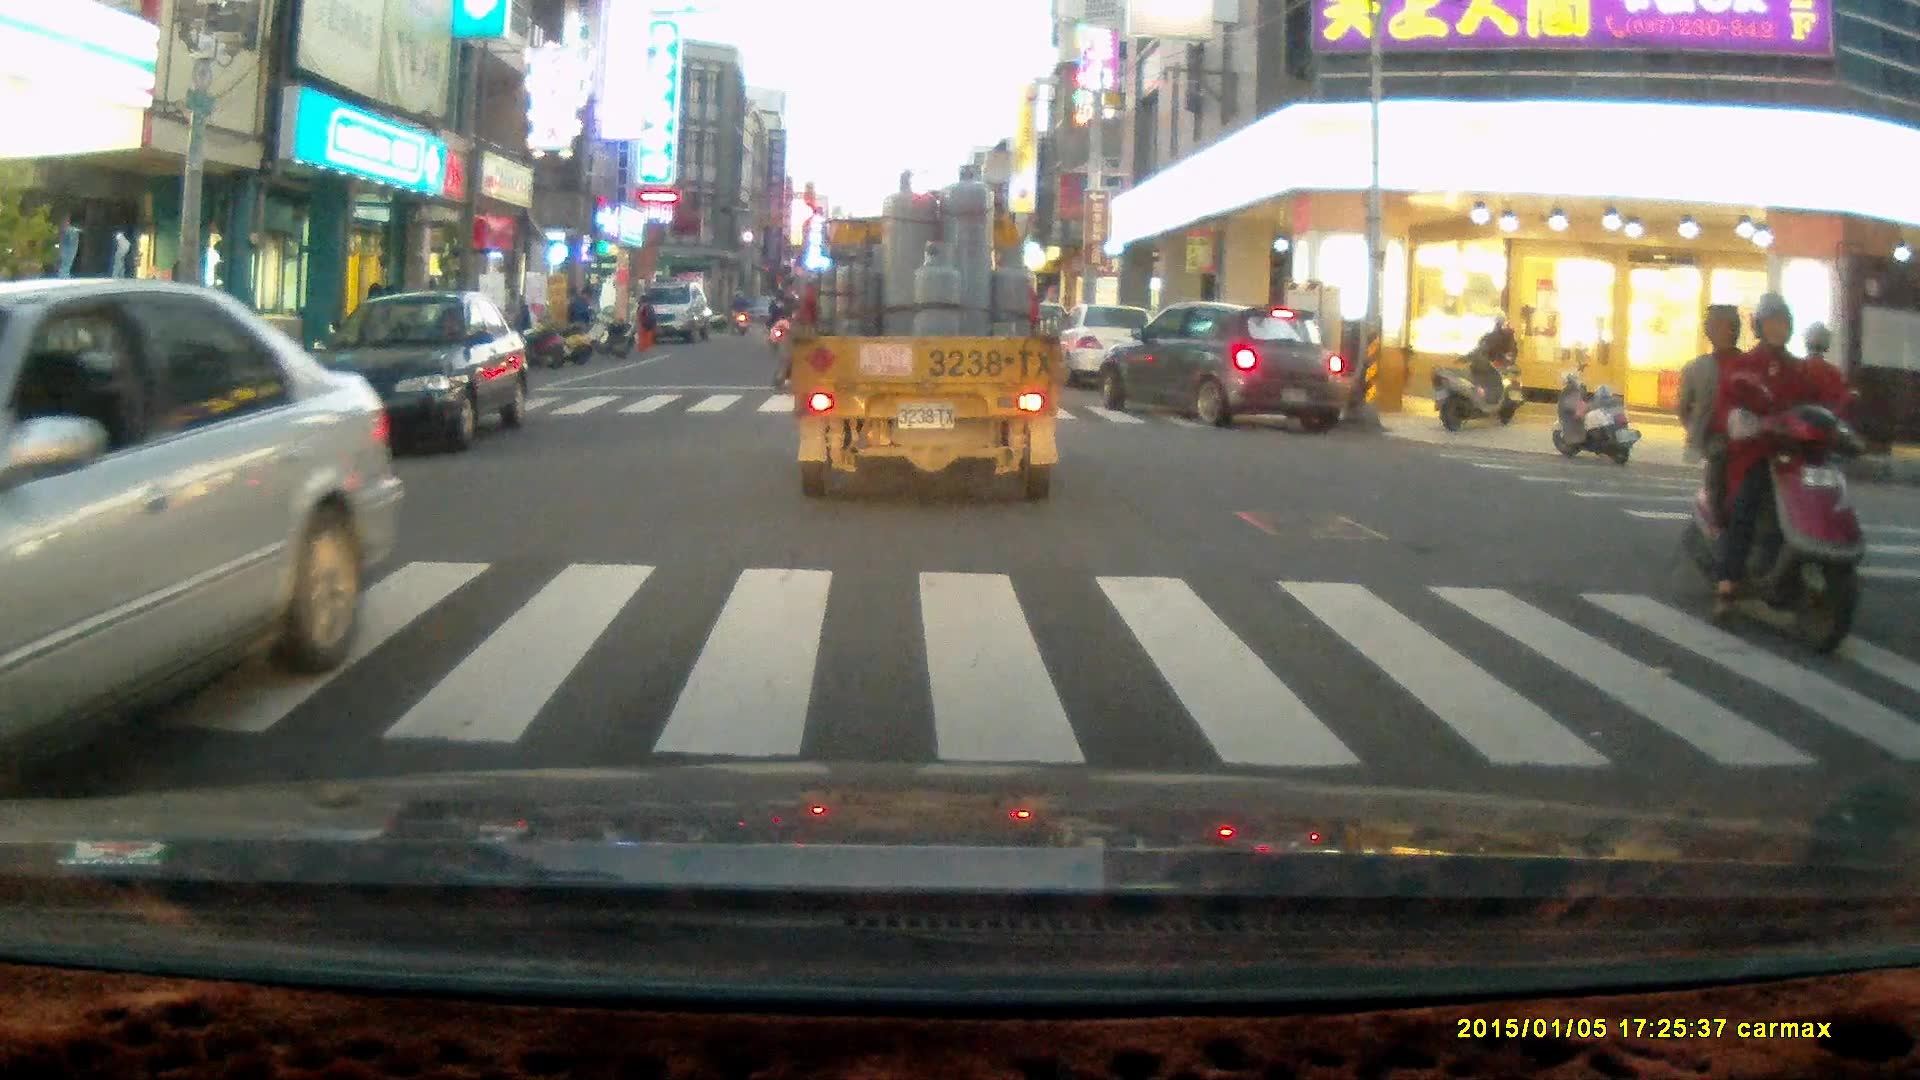pedestrian: (564, 284, 593, 350), (629, 294, 653, 354)
rider: (1672, 292, 1866, 661), (1464, 309, 1524, 428)
vehicle: (1, 277, 408, 792), (790, 161, 1073, 501), (299, 292, 531, 453), (1099, 303, 1343, 431), (1049, 306, 1170, 395), (631, 280, 705, 340)
